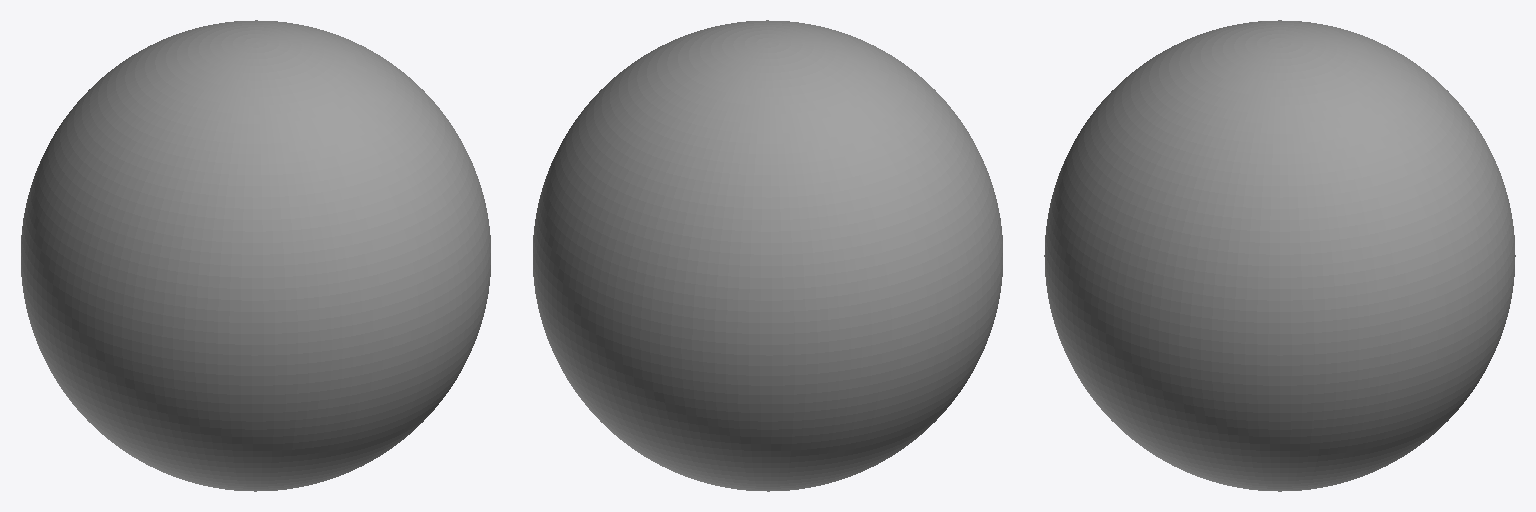
File: earth.obj
3 renders of one model, left to right at view 1: azimuth 30°, elevation 25°; view 2: azimuth 150°, elevation 25°; view 3: azimuth 270°, elevation 25°, orthographic.
Parts seen in each view (by area): view 1: Sphere_Sphere.001; view 2: Sphere_Sphere.001; view 3: Sphere_Sphere.001.
Boxes of the visible parts, x1,y1,x2,y2 form: Sphere_Sphere.001: [21, 20, 490, 491]; Sphere_Sphere.001: [533, 20, 1002, 491]; Sphere_Sphere.001: [1044, 20, 1515, 491].
Bounding box in the file's own units: 12742 × 12742 × 12742.